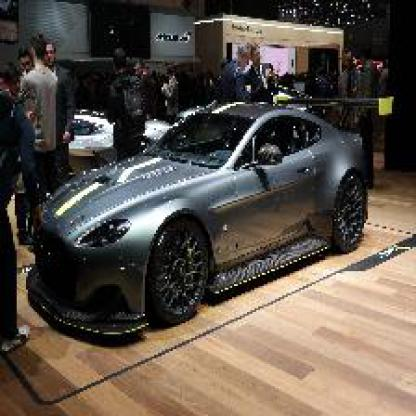not_emergency: (26, 89, 397, 338)
